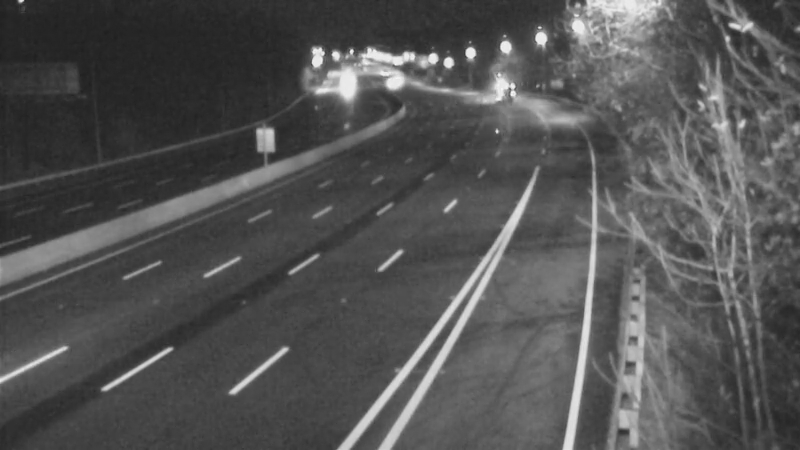vehicle: (369, 58, 419, 108), (478, 63, 528, 113), (322, 59, 372, 109)
